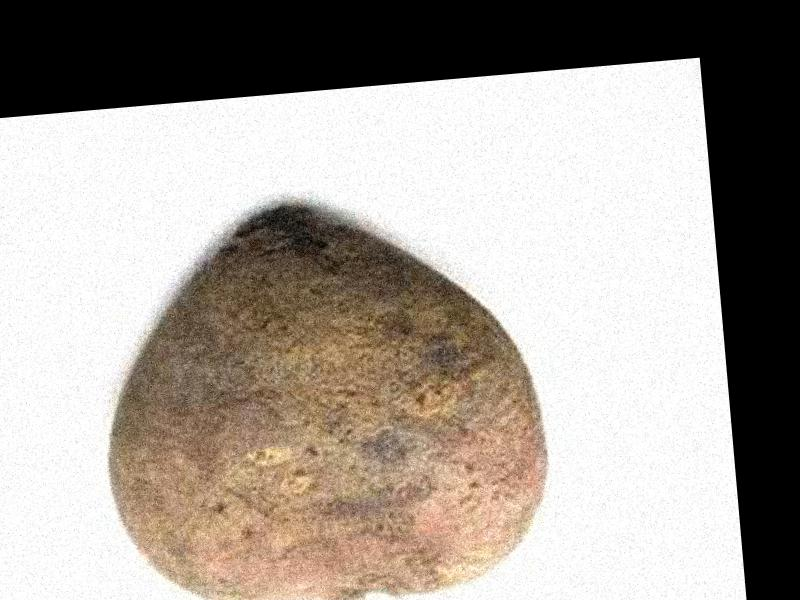Beet: (85, 187, 559, 600)
